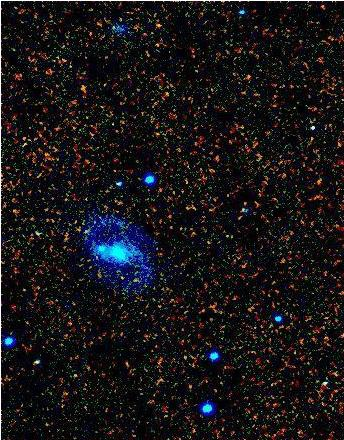star: (83, 233, 113, 263)
